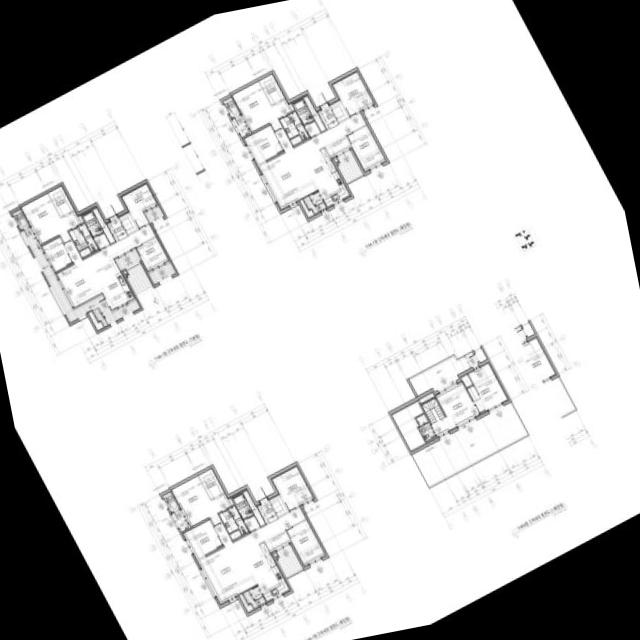background: (0, 0, 640, 640)
space_balconi: (21, 227, 140, 326), (126, 263, 152, 295), (337, 151, 363, 183), (276, 546, 302, 577), (148, 262, 176, 284), (243, 585, 265, 608), (303, 191, 326, 213), (117, 251, 139, 269), (172, 509, 189, 531), (232, 115, 249, 137), (146, 206, 164, 222)
space_bedroom: (21, 193, 81, 244), (232, 81, 292, 132), (171, 476, 231, 526), (468, 363, 508, 413), (332, 70, 374, 116), (271, 465, 313, 510), (346, 125, 386, 170), (286, 519, 325, 565), (121, 183, 157, 228), (183, 519, 222, 559), (244, 125, 283, 164), (136, 237, 169, 271), (41, 237, 72, 272)
space_dressroom: (198, 468, 224, 499), (259, 73, 285, 104), (48, 185, 74, 216)
space_front: (107, 216, 128, 240), (257, 500, 278, 523), (318, 105, 339, 128)
space_kitchen: (242, 542, 289, 601), (302, 147, 349, 206), (91, 260, 134, 309)
space_living_room: (258, 112, 367, 209), (198, 506, 306, 603), (55, 224, 156, 309), (431, 382, 479, 436)
space_other: (412, 402, 527, 486), (409, 353, 478, 395), (391, 400, 425, 451), (303, 95, 326, 131), (92, 207, 115, 243), (243, 490, 265, 526), (421, 397, 445, 424), (264, 530, 290, 552), (325, 135, 351, 157), (119, 211, 137, 234), (269, 495, 288, 516), (330, 100, 348, 122), (238, 593, 253, 612), (299, 199, 314, 218), (88, 311, 103, 330), (244, 515, 260, 532), (93, 233, 109, 249), (304, 121, 320, 137), (467, 385, 480, 401), (418, 391, 435, 403), (474, 348, 487, 362), (461, 373, 472, 387), (79, 247, 91, 257), (228, 497, 234, 505), (78, 214, 83, 222), (289, 103, 294, 110), (273, 552, 277, 556), (123, 270, 127, 274), (334, 158, 337, 162)
space_outdoor_room: (162, 491, 179, 512), (223, 97, 240, 117), (12, 209, 29, 229)
space_toilet: (219, 506, 248, 540), (279, 111, 308, 145), (69, 223, 98, 252), (292, 98, 313, 125), (82, 211, 103, 237), (232, 493, 253, 519), (416, 414, 435, 441)
